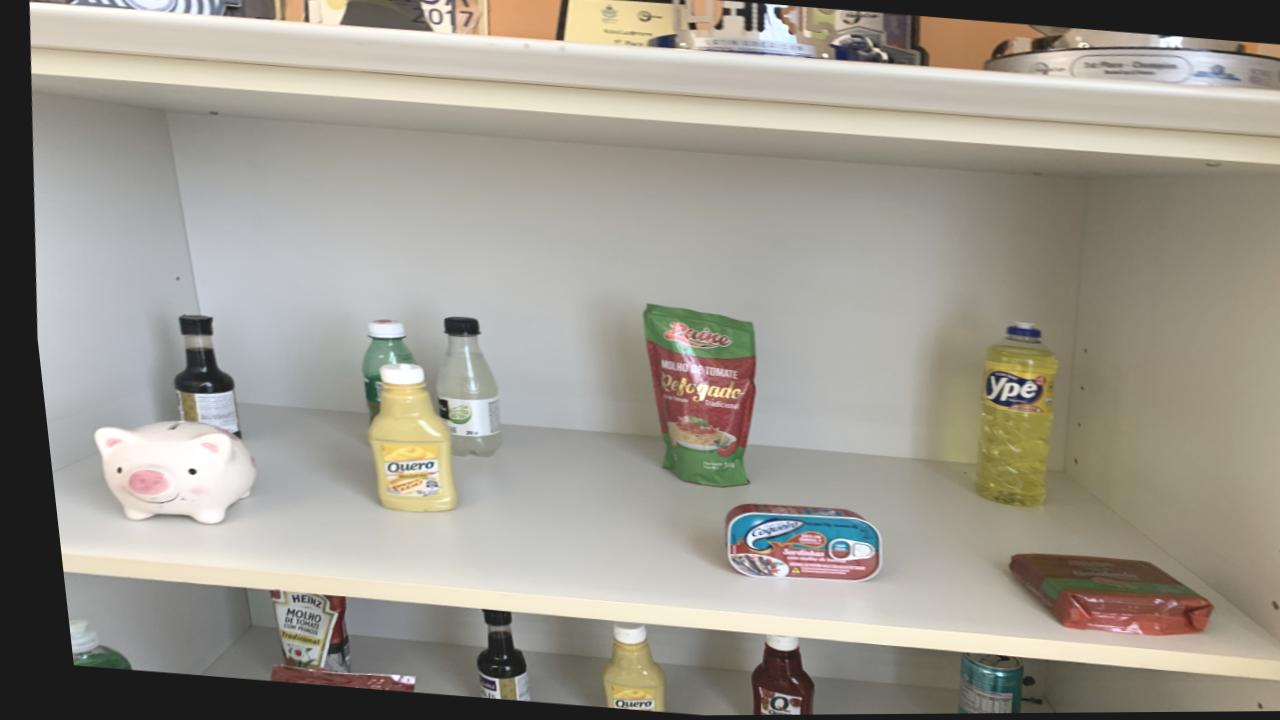Detergent-Cleanup_Items: (963, 324, 1048, 508), (54, 619, 114, 670)
English_Sauce-Pantry_Items: (165, 315, 230, 438), (461, 611, 513, 702)
Guarana-Drinks: (353, 319, 408, 419)
Guava-Snacks: (995, 554, 1199, 638)
Ketchup-Pantry_Items: (734, 636, 797, 716)
Mustard-Pantry_Items: (358, 364, 446, 513), (586, 622, 649, 713)
Pig_Safe-Miscellaneous: (84, 420, 245, 524)
Soda-Drinks: (426, 317, 491, 457)
Tea-Drinks: (940, 654, 1008, 715)
Tomato_Sauce-Pantry_Items: (636, 305, 747, 488), (255, 590, 335, 674), (255, 665, 398, 693)
